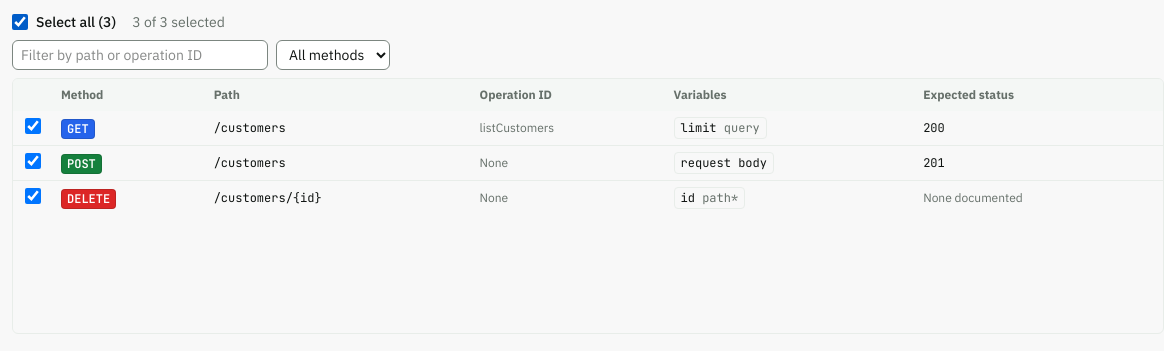
Test: OperationSelection filters (specs/047 R12, constitution XXXII) › narrows the rows by method and lists the methods present
Select "POST" in the dropdown named "Filter by method": (333, 55) left=276, top=40, right=390, bottom=70
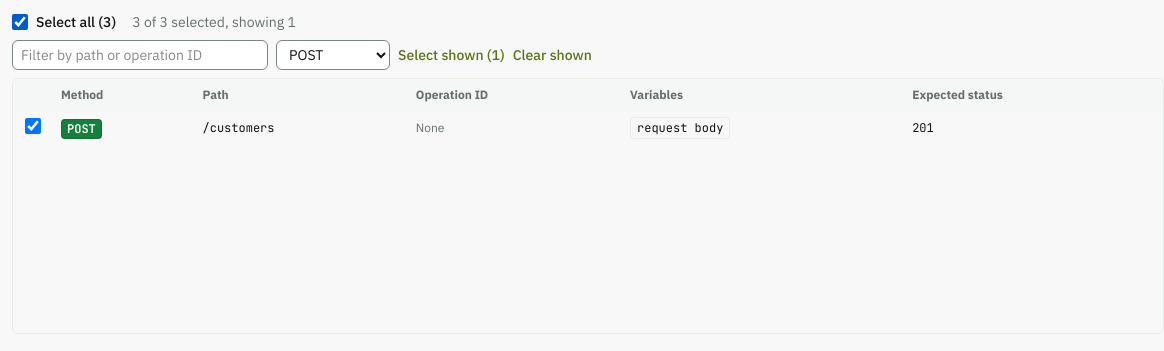
Result: the number of checkboxes named "POST " is 1 at left=25, top=118, right=41, bottom=134
Result: the text "GET " is gone
